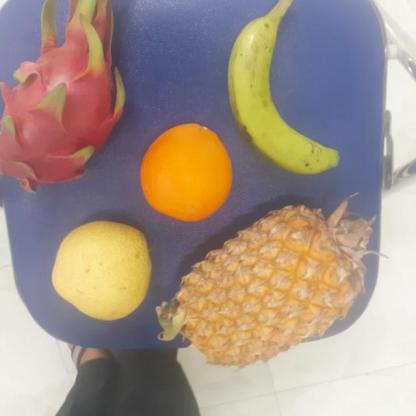banana: (227, 1, 340, 176)
orange: (138, 122, 236, 221)
pear: (50, 221, 157, 324)
pineapple: (175, 205, 384, 371)
pitaya: (0, 0, 132, 195)
